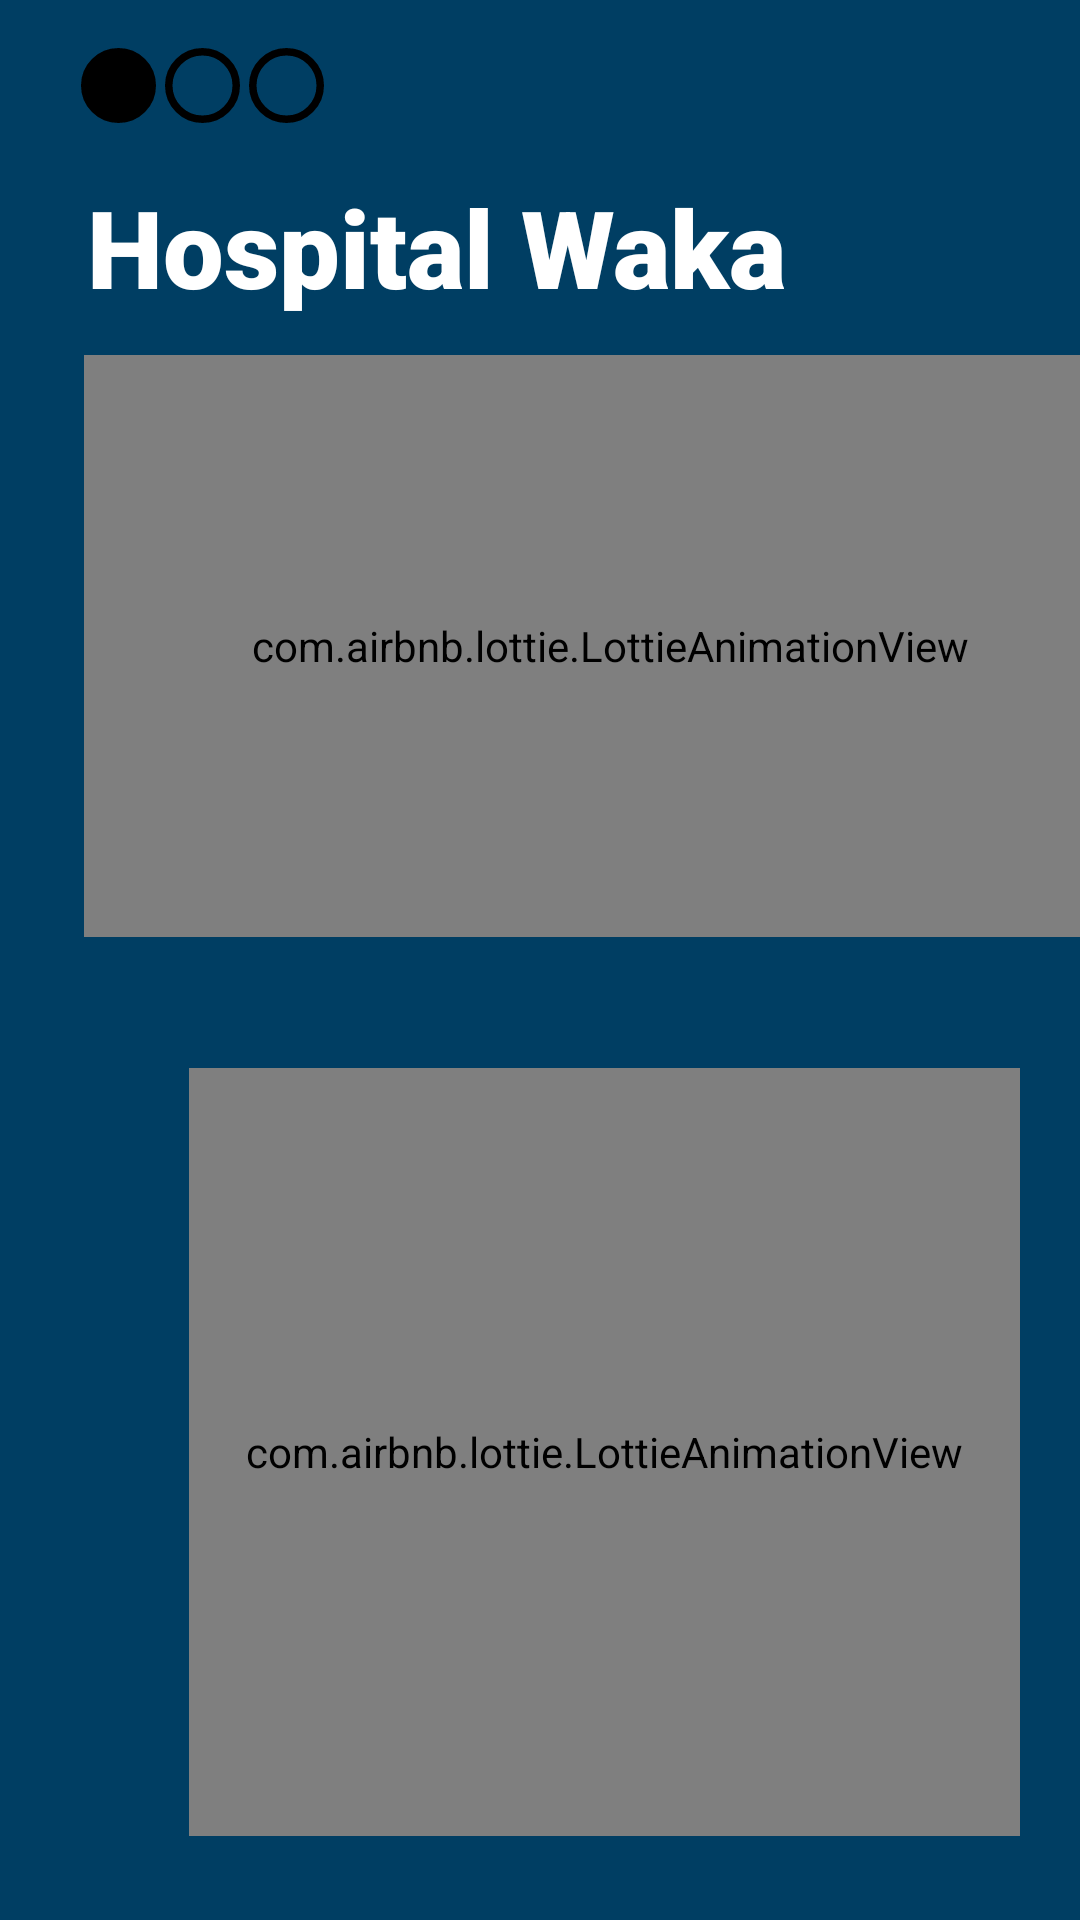

Where icons sit on this 1080px x 1920px app screen, as bbox=[x1, y1, x2, y2]:
circle: bbox=[81, 48, 156, 123]
